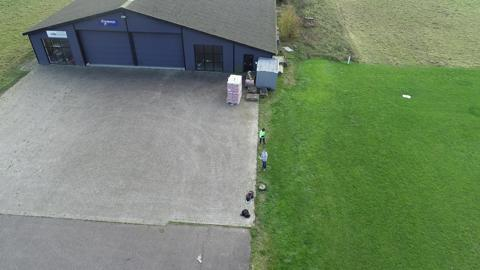RockwoolPallet: (229, 75, 244, 105)
